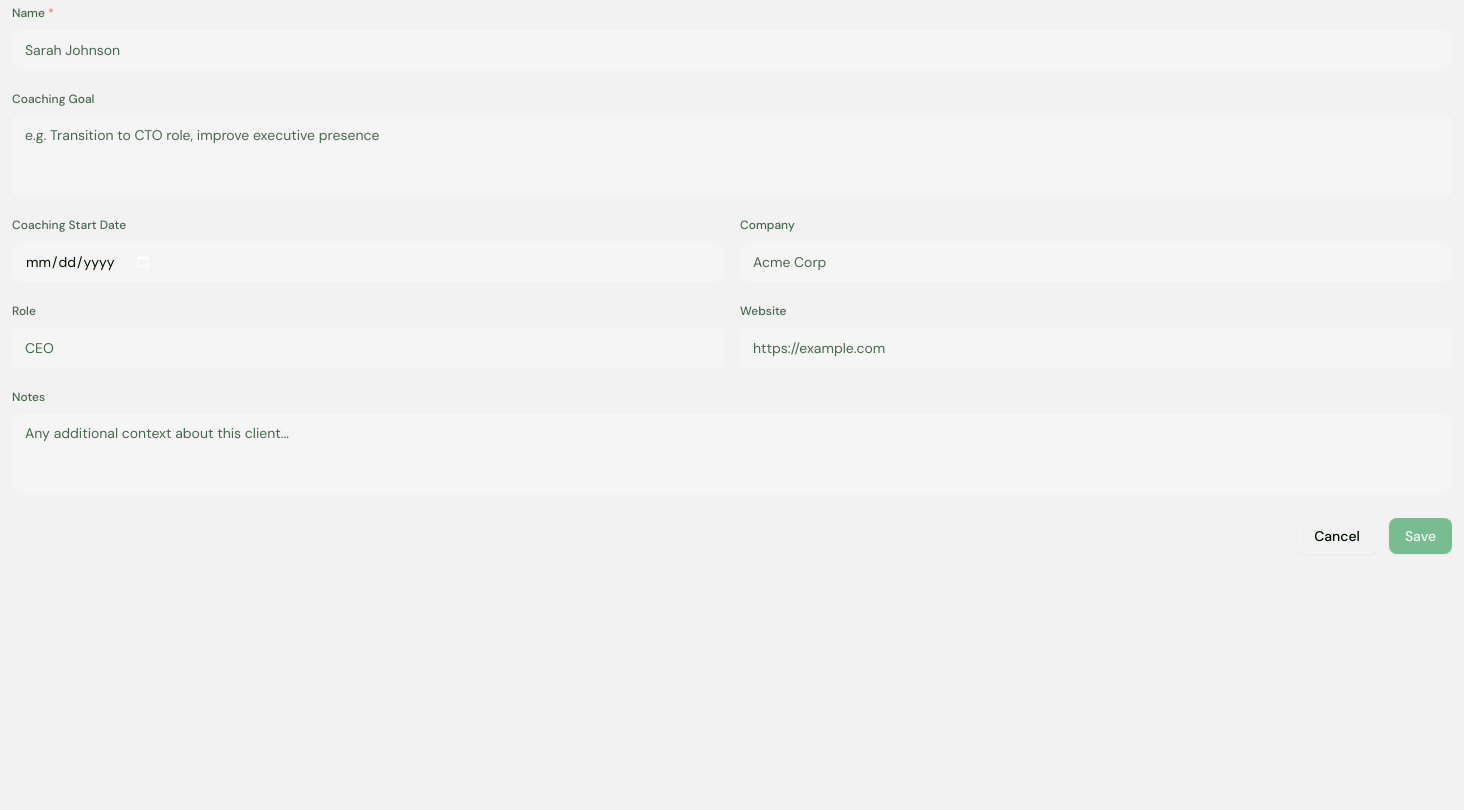
Test case: ClientForm › Form Validation › should show error when website URL is invalid
The width and height of the screenshot is (1464, 810).
In the field labelled "Website": {"x": 1096, "y": 348} [740,328,1452,368], type "not-a-url"
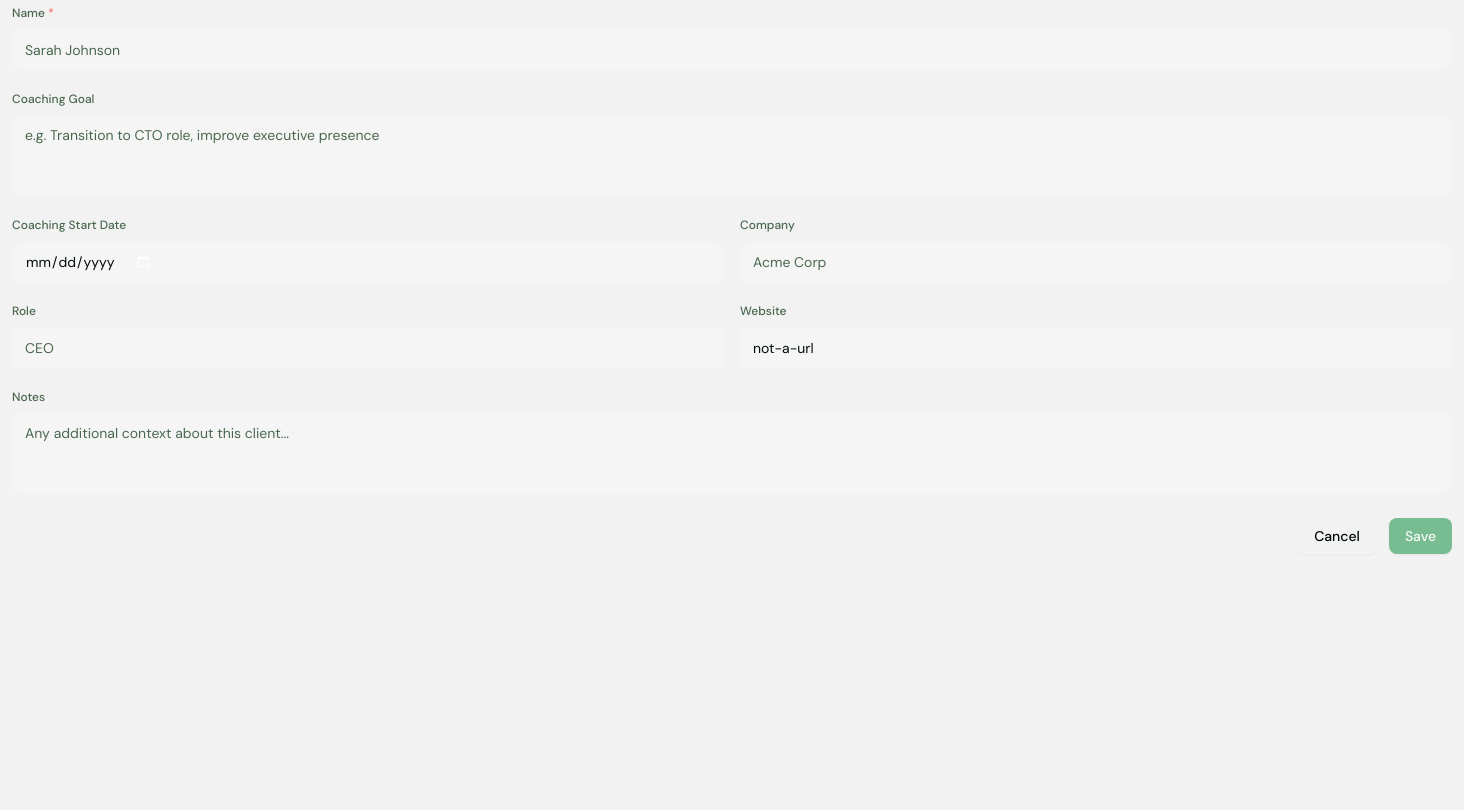
Leave the field labelled "Website", box [740,328,1452,368]
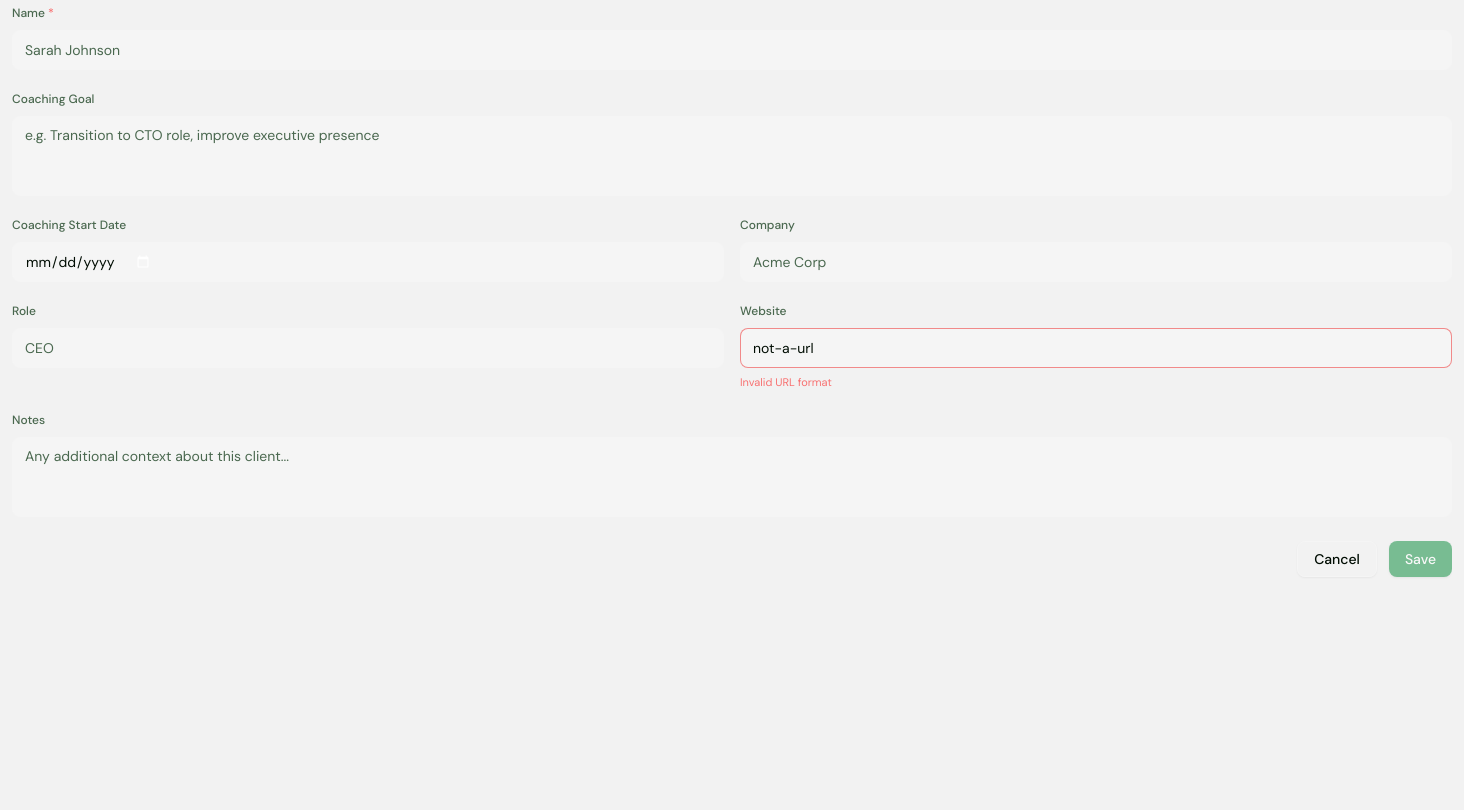
Now the text "Invalid URL format" is shown, box [740,375,832,389]
